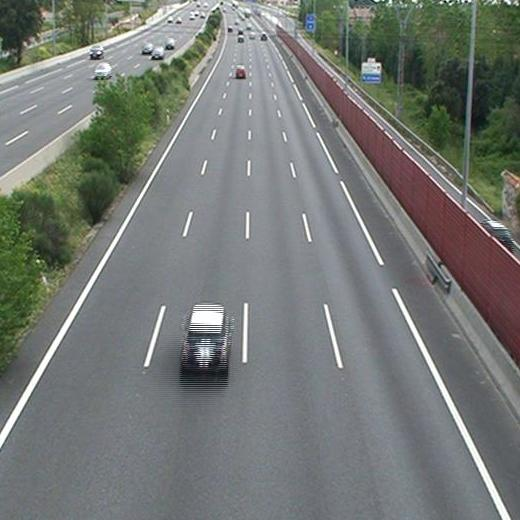car: (181, 304, 229, 368), (236, 66, 245, 77)
